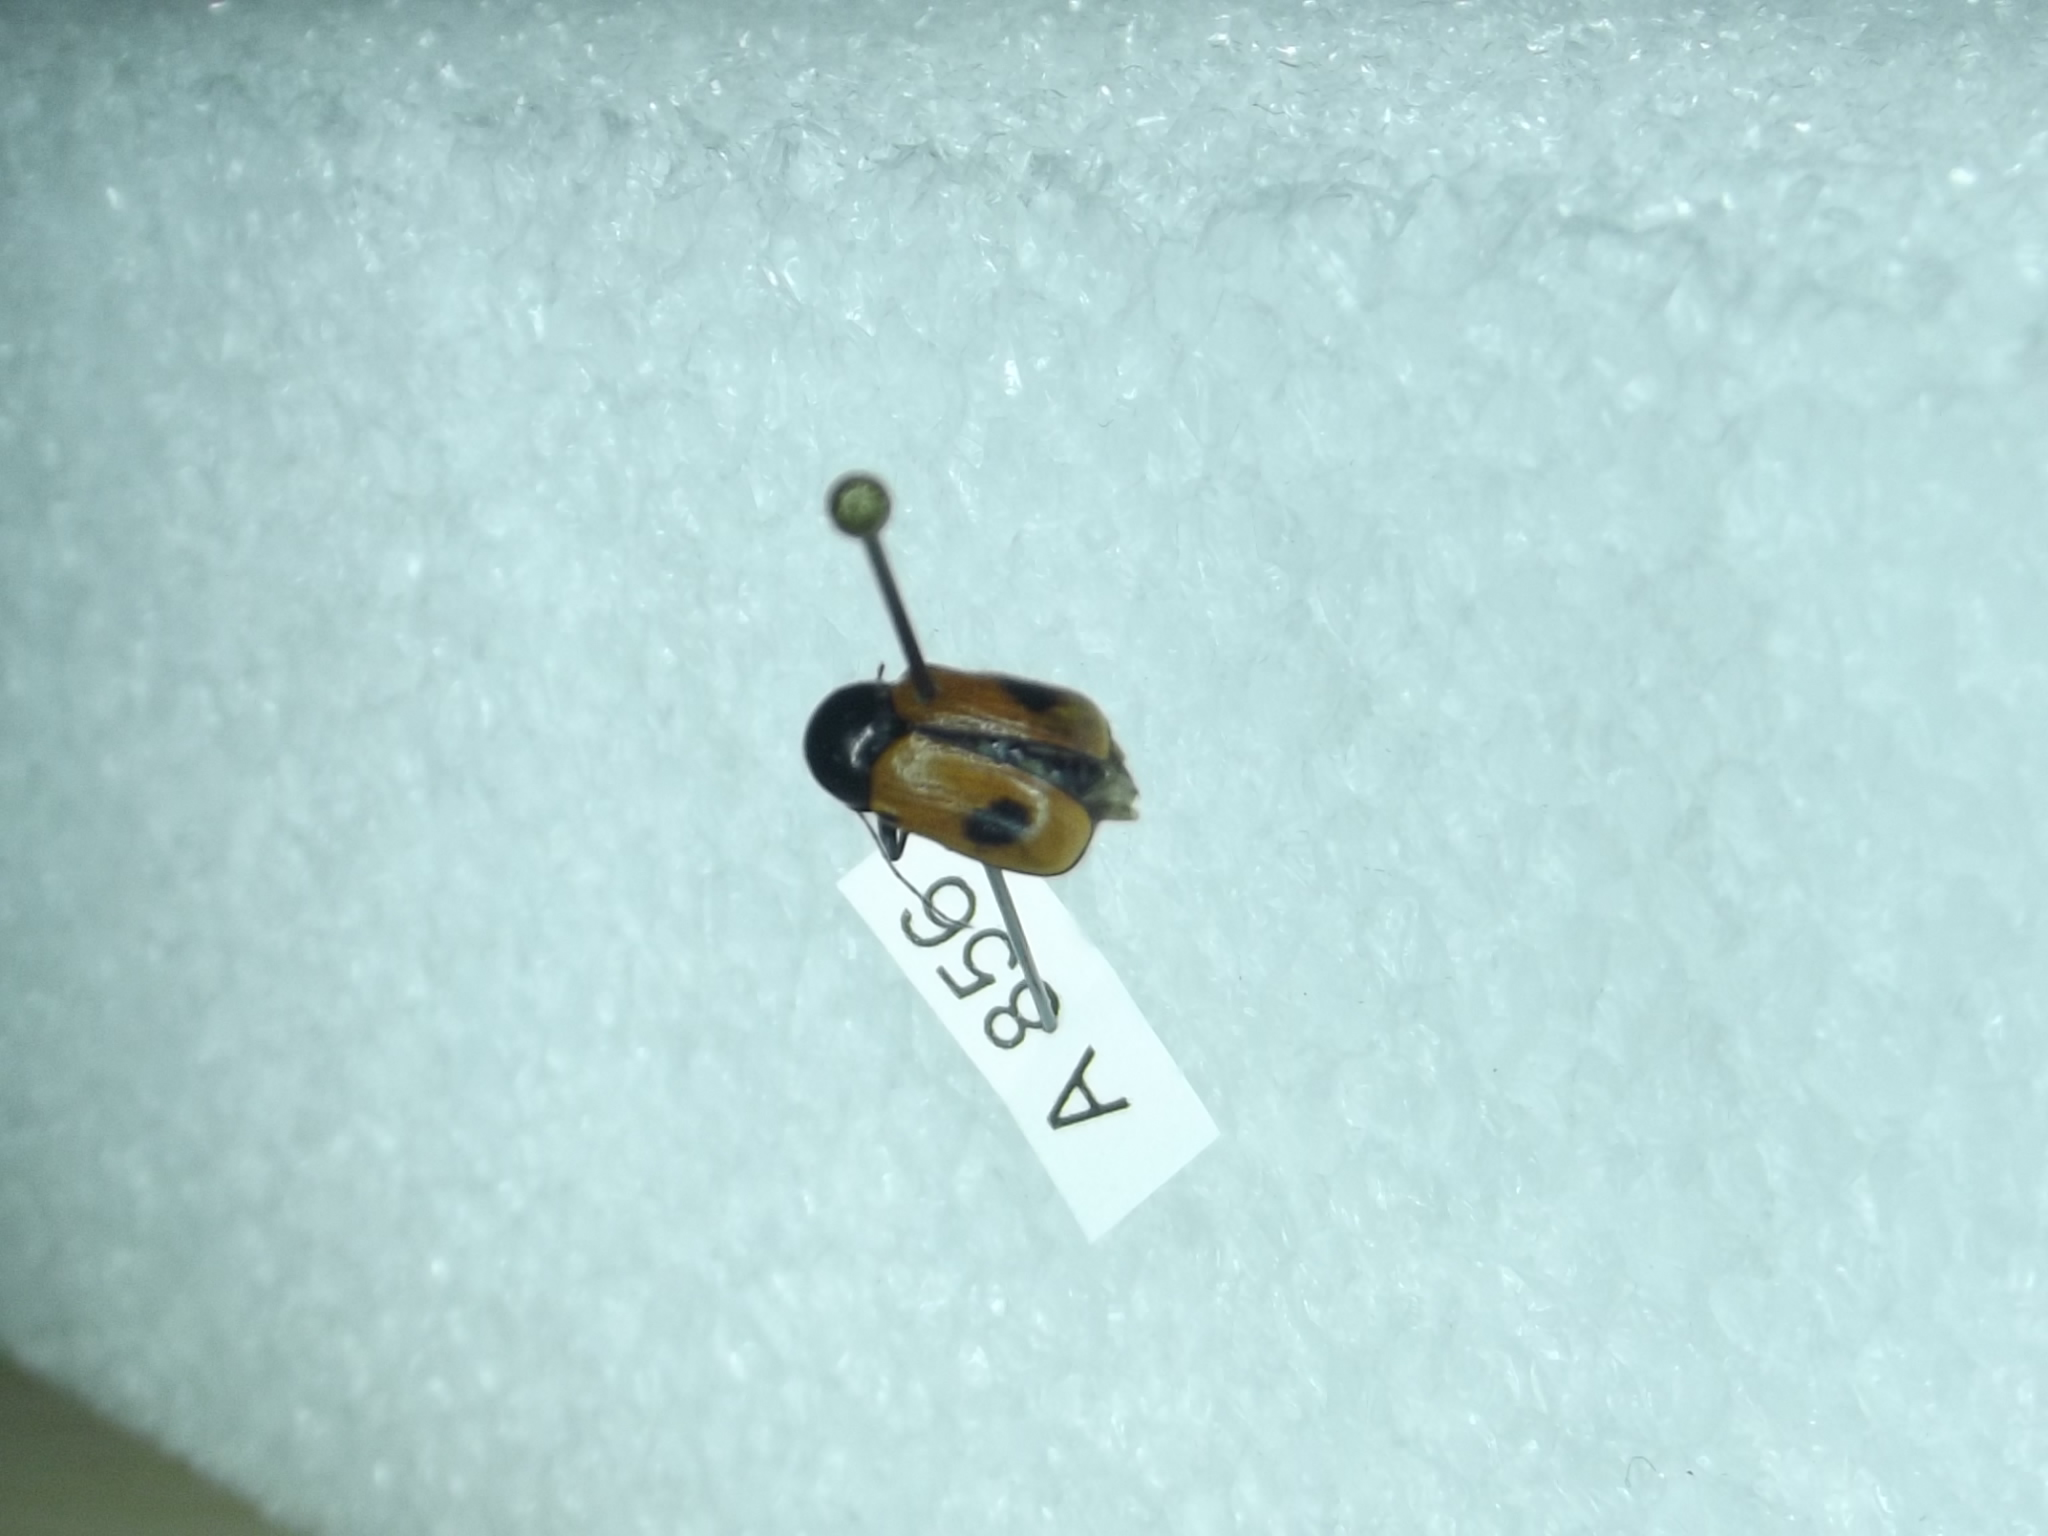Cryptocephalus_bipunctatus: (797, 642, 1151, 892)
